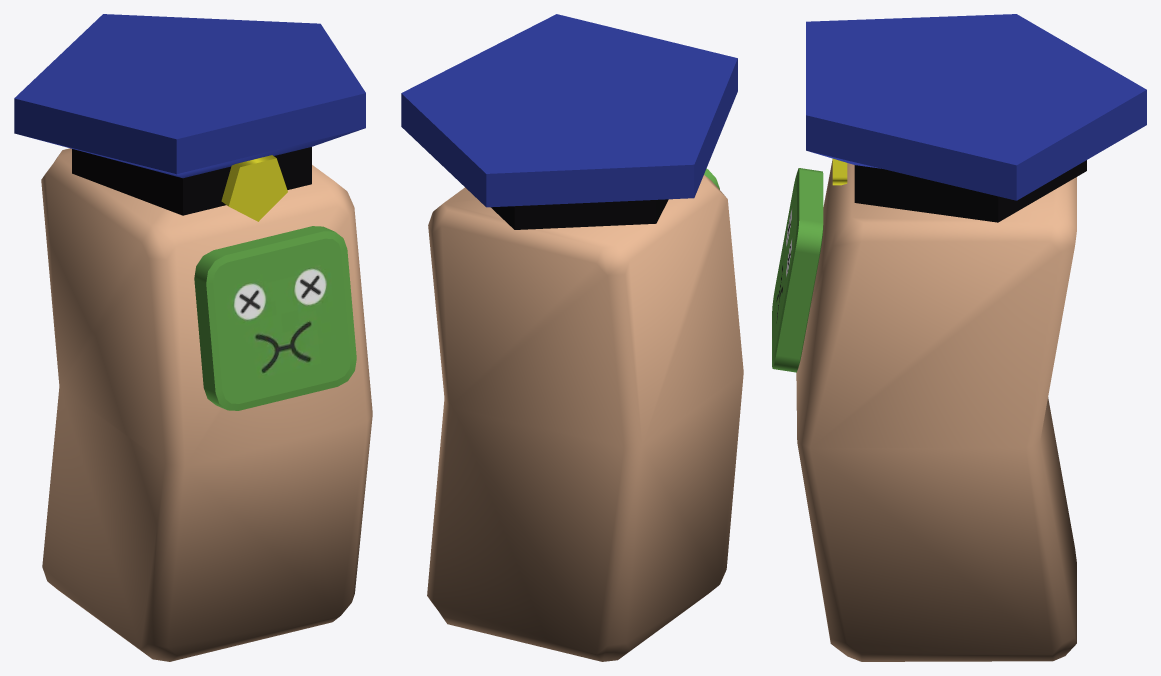
The model's file is FingerV8.fbx.
3 renders of one model, left to right at view 1: azimuth 30°, elevation 25°; view 2: azimuth 150°, elevation 25°; view 3: azimuth 270°, elevation 25°, orthographic. The views are drawn at different scales.
Visible parts, largest first — view 1: Cube.019, Cylinder.021, Cube.020; view 2: Cube.019, Cylinder.021; view 3: Cube.019, Cylinder.021, Cube.020.
Part boxes in pixels (x1=…): Cube.019: x1=41, y1=148, x2=372, y2=661; Cylinder.021: x1=14, y1=14, x2=365, y2=221; Cube.020: x1=194, y1=226, x2=356, y2=410; Cube.019: x1=427, y1=175, x2=743, y2=661; Cylinder.021: x1=401, y1=14, x2=737, y2=229; Cube.019: x1=796, y1=159, x2=1076, y2=661; Cylinder.021: x1=806, y1=14, x2=1146, y2=222; Cube.020: x1=772, y1=168, x2=823, y2=372.
Bounding box in the file's own units: 43.12 × 41.23 × 69.53.
